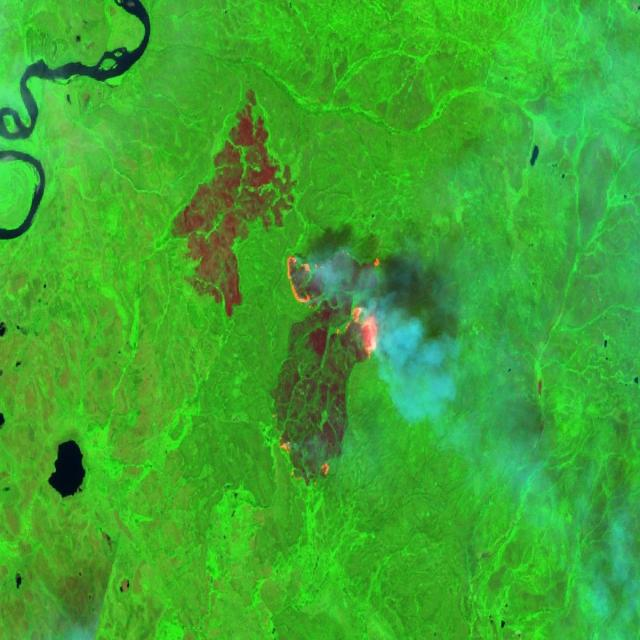fire: (271, 249, 395, 487)
